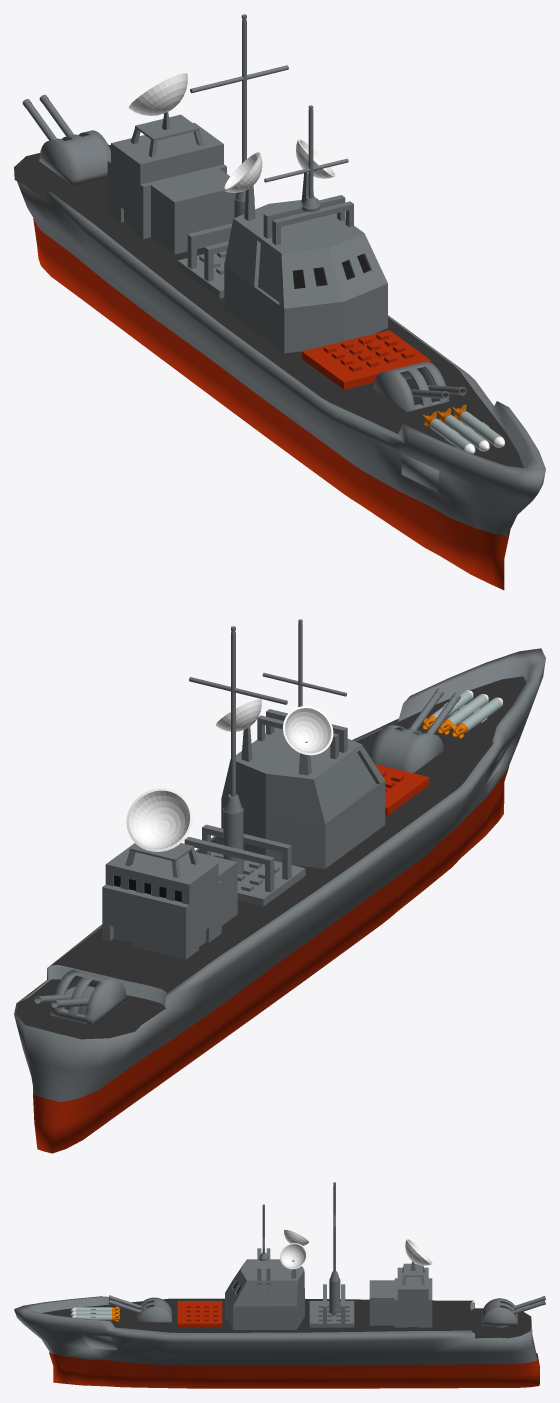
File: aegiscruiser01.dae
3 renders of one model, top to bottom at view 1: azimuth 30°, elevation 25°; view 2: azimuth 150°, elevation 25°; view 3: azimuth 270°, elevation 25°, orthographic. The views are drawn at different scales.
Visible parts, largest first — view 1: deck, deck_001, Plane_002, deck_color, Cube, Cube_002, Circle_001, Circle, sattelite_dish, Cube_001, Cube_007, Cube_006 (+6 smaller); view 2: deck, deck_color, deck_001, Plane_002, Cube, sattelite_dish, Circle, Circle_001, Circle_002, sattelite_dish_001, Cube_007, Cube_002 (+4 smaller); view 3: deck, deck_001, deck_color, Plane_002, Cube, Cube_002, Cube_007, Circle_001, Circle, Circle_002, sattelite_dish_002, sattelite_dish (+1 smaller).
Part boxes in pixels (x1=…): deck: x1=17, y1=181, x2=545, y2=536; deck_001: x1=33, y1=218, x2=510, y2=590; Plane_002: x1=224, y1=172, x2=387, y2=353; deck_color: x1=14, y1=144, x2=523, y2=468; Cube: x1=107, y1=122, x2=236, y2=254; Cube_002: x1=302, y1=330, x2=431, y2=389; Circle_001: x1=39, y1=130, x2=110, y2=185; Circle: x1=373, y1=361, x2=449, y2=411; sattelite_dish: x1=128, y1=73, x2=187, y2=115; Cube_001: x1=130, y1=111, x2=203, y2=157; Cube_007: x1=177, y1=251, x2=226, y2=298; Cube_006: x1=272, y1=201, x2=353, y2=245; deck: x1=14, y1=648, x2=545, y2=1101; deck_color: x1=16, y1=676, x2=525, y2=1039; deck_001: x1=33, y1=767, x2=508, y2=1153; Plane_002: x1=221, y1=727, x2=385, y2=868; Cube: x1=102, y1=843, x2=237, y2=959; sattelite_dish: x1=126, y1=788, x2=192, y2=851; Circle: x1=369, y1=724, x2=444, y2=773; Circle_001: x1=50, y1=970, x2=126, y2=1025; Circle_002: x1=223, y1=626, x2=243, y2=874; sattelite_dish_001: x1=283, y1=706, x2=333, y2=755; Cube_007: x1=211, y1=851, x2=305, y2=906; Cube_002: x1=375, y1=764, x2=429, y2=815; deck: x1=14, y1=1296, x2=537, y2=1365; deck_001: x1=49, y1=1352, x2=539, y2=1388; deck_color: x1=42, y1=1298, x2=531, y2=1338; Plane_002: x1=225, y1=1259, x2=304, y2=1329; Cube: x1=369, y1=1267, x2=432, y2=1327; Cube_002: x1=177, y1=1301, x2=222, y2=1327; Cube_007: x1=309, y1=1301, x2=354, y2=1327; Circle_001: x1=482, y1=1298, x2=517, y2=1325; Circle: x1=136, y1=1297, x2=171, y2=1322; Circle_002: x1=329, y1=1182, x2=340, y2=1315; sattelite_dish_002: x1=280, y1=1243, x2=307, y2=1269; sattelite_dish: x1=405, y1=1238, x2=432, y2=1265.
Size of the model in its own units: 0.7167 by 4.44 by 1.88.
